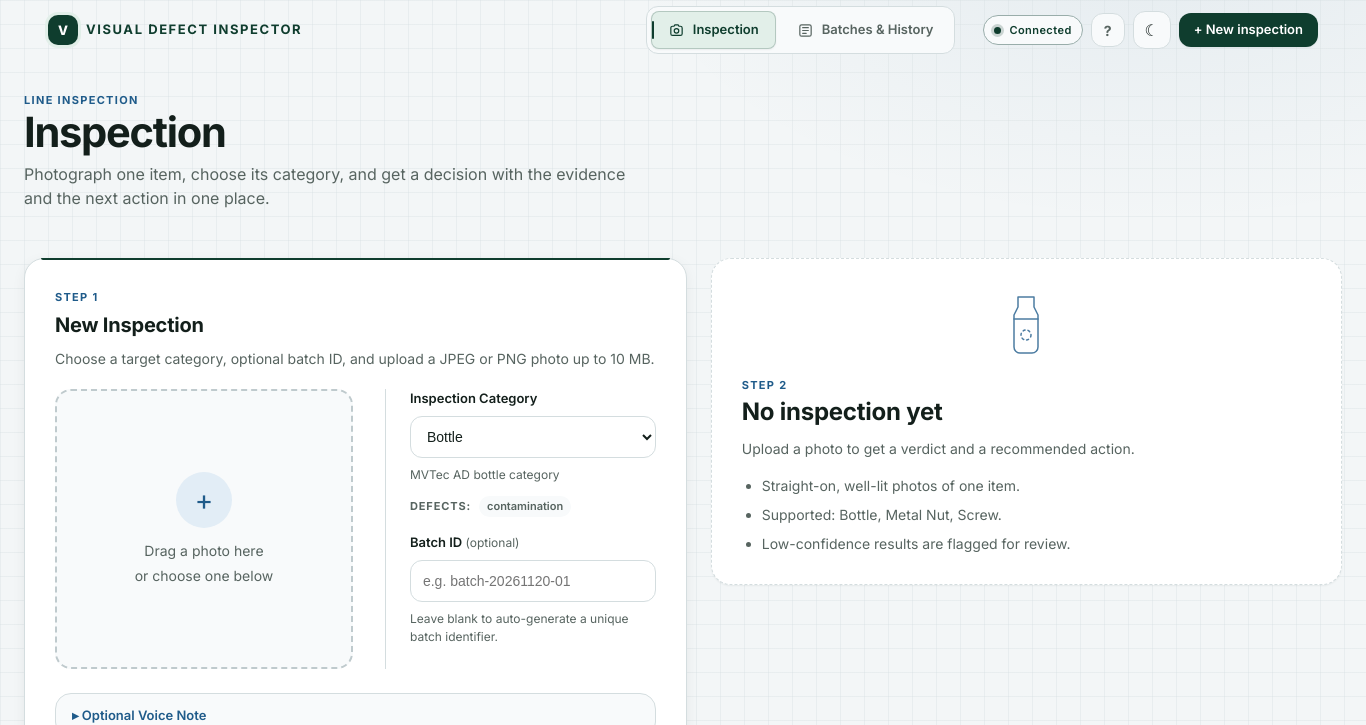
Test: App › returns to the inspection tab from the header action
Step 1. Click the button "Batches & History" → point(865, 30), box [780,11,950,49]
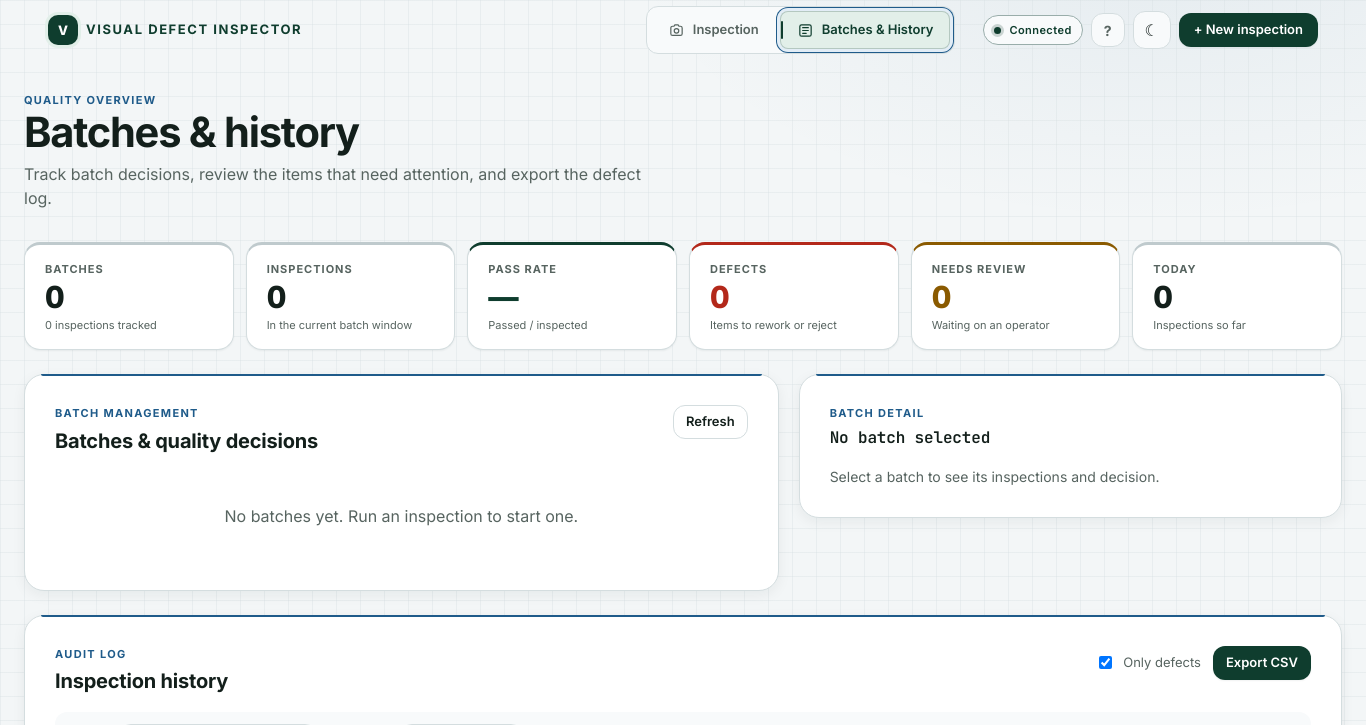
Step 2. Click the button "+ New inspection" → point(1248, 30), box [1179,13,1318,47]
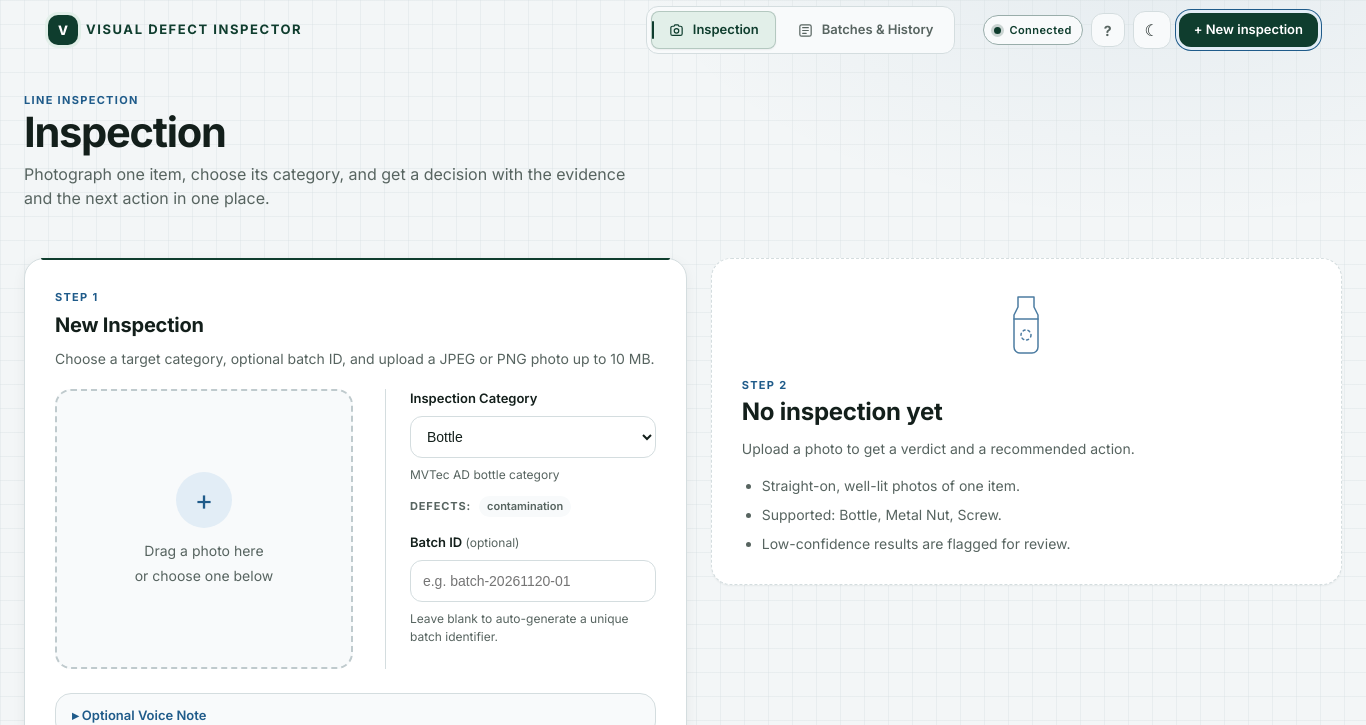
Expected: the heading "New Inspection" is shown, [55,313,204,337]
